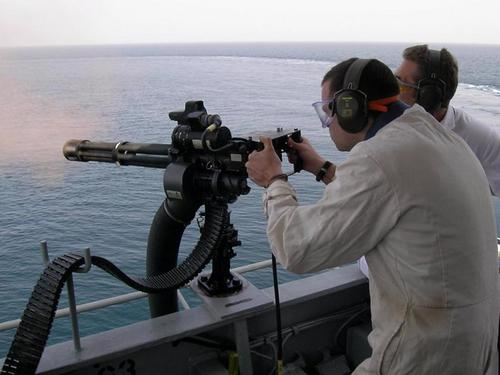rifle: (54, 109, 245, 201)
rifle in hand: (39, 94, 320, 236)
